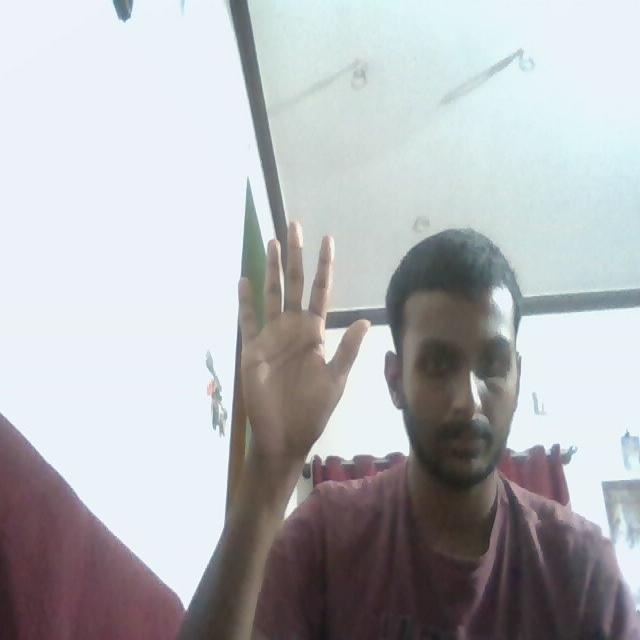hello-yes-no-iloveyou-please: (236, 218, 372, 439)
